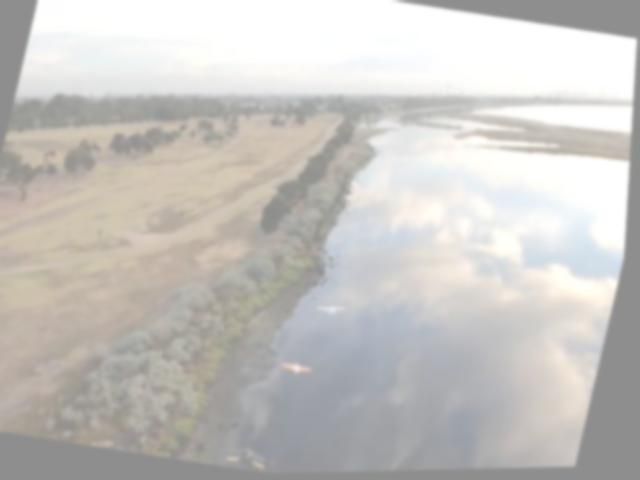uav: (227, 439, 278, 472), (319, 300, 350, 322), (286, 359, 317, 377)
